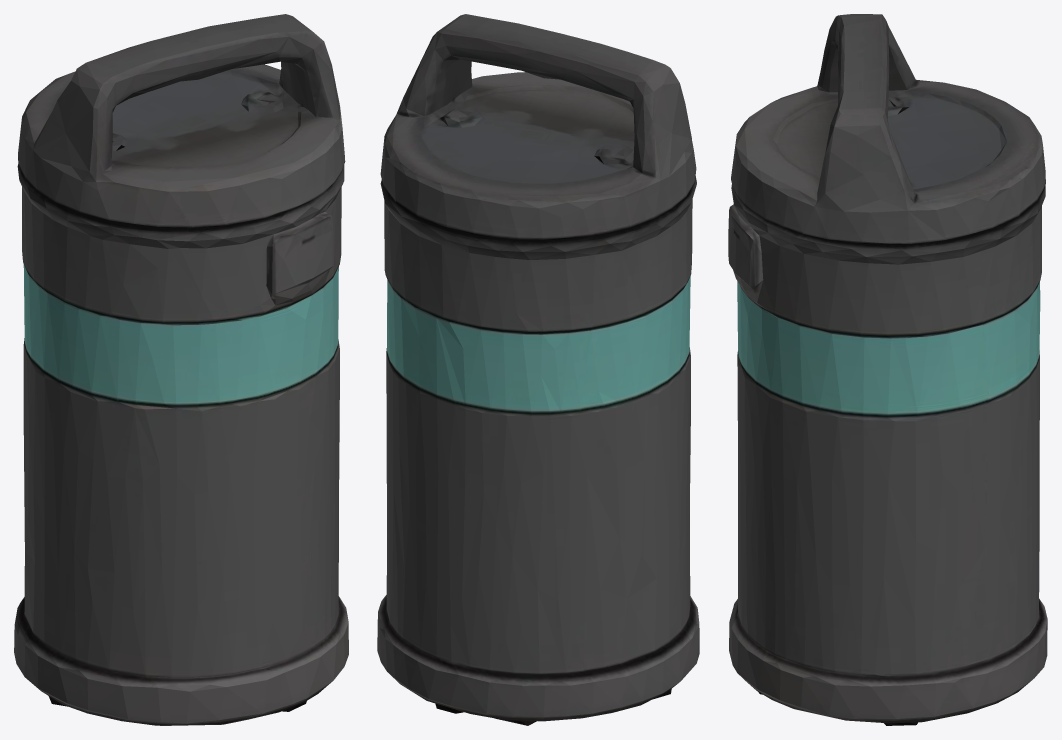
The model's file is core.glb.
3 views of the same model, side by side, from view 1: azimuth 30°, elevation 25°; view 2: azimuth 150°, elevation 25°; view 3: azimuth 270°, elevation 25° (orthographic). The views are drawn at different scales.
Visible parts, largest first — view 1: figure; view 2: figure; view 3: figure.
Part boxes in pixels (box(x1,y1,x2,y2)): figure: box(14, 14, 348, 725); figure: box(377, 14, 699, 725); figure: box(728, 14, 1047, 725).
Size of the model in its own units: 0.2381 by 0.5 by 0.2363.
Materials: 1 (1 with a texture image).
